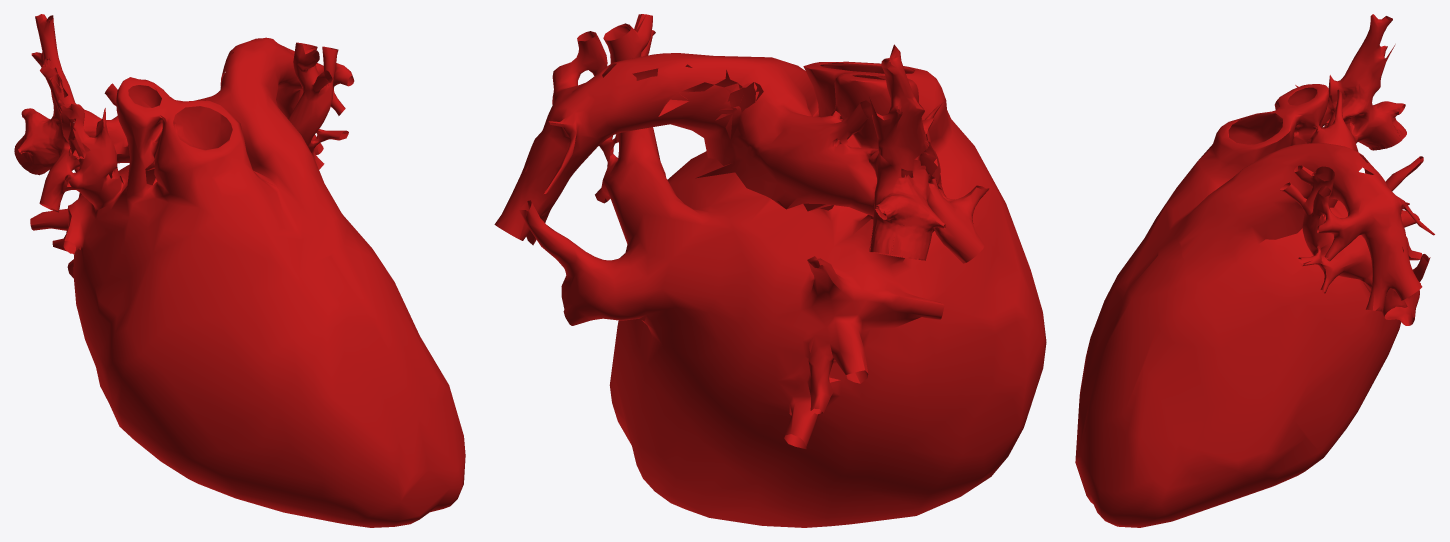
Rendered from heart.glb.
3 renders of one model, left to right at view 1: azimuth 30°, elevation 25°; view 2: azimuth 150°, elevation 25°; view 3: azimuth 270°, elevation 25°, orthographic. The views are drawn at different scales.
Visible parts, largest first — view 1: Heart; view 2: Heart; view 3: Heart.
Part boxes in pixels (x1,y1,x2,y2): Heart: (14, 14, 465, 527); Heart: (494, 14, 1046, 527); Heart: (1075, 14, 1434, 527).
Bounding box in the file's own units: 1.2e-08 × 1.6e-08 × 1.29e-08.
